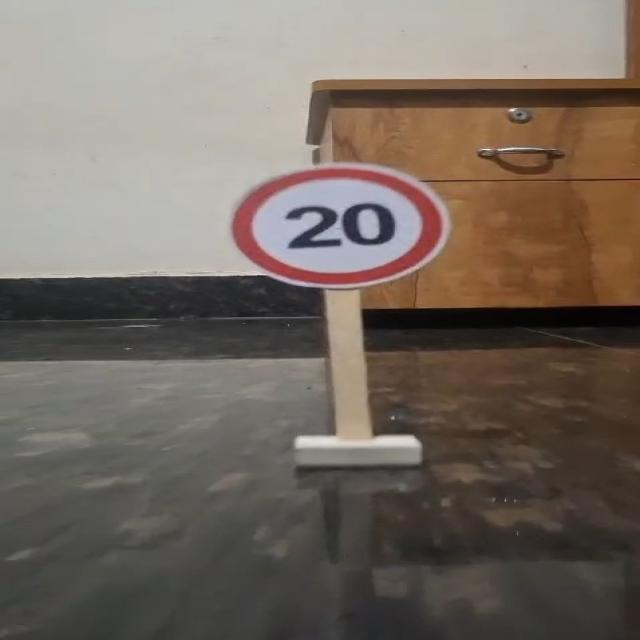Speed20: (215, 160, 460, 294)
